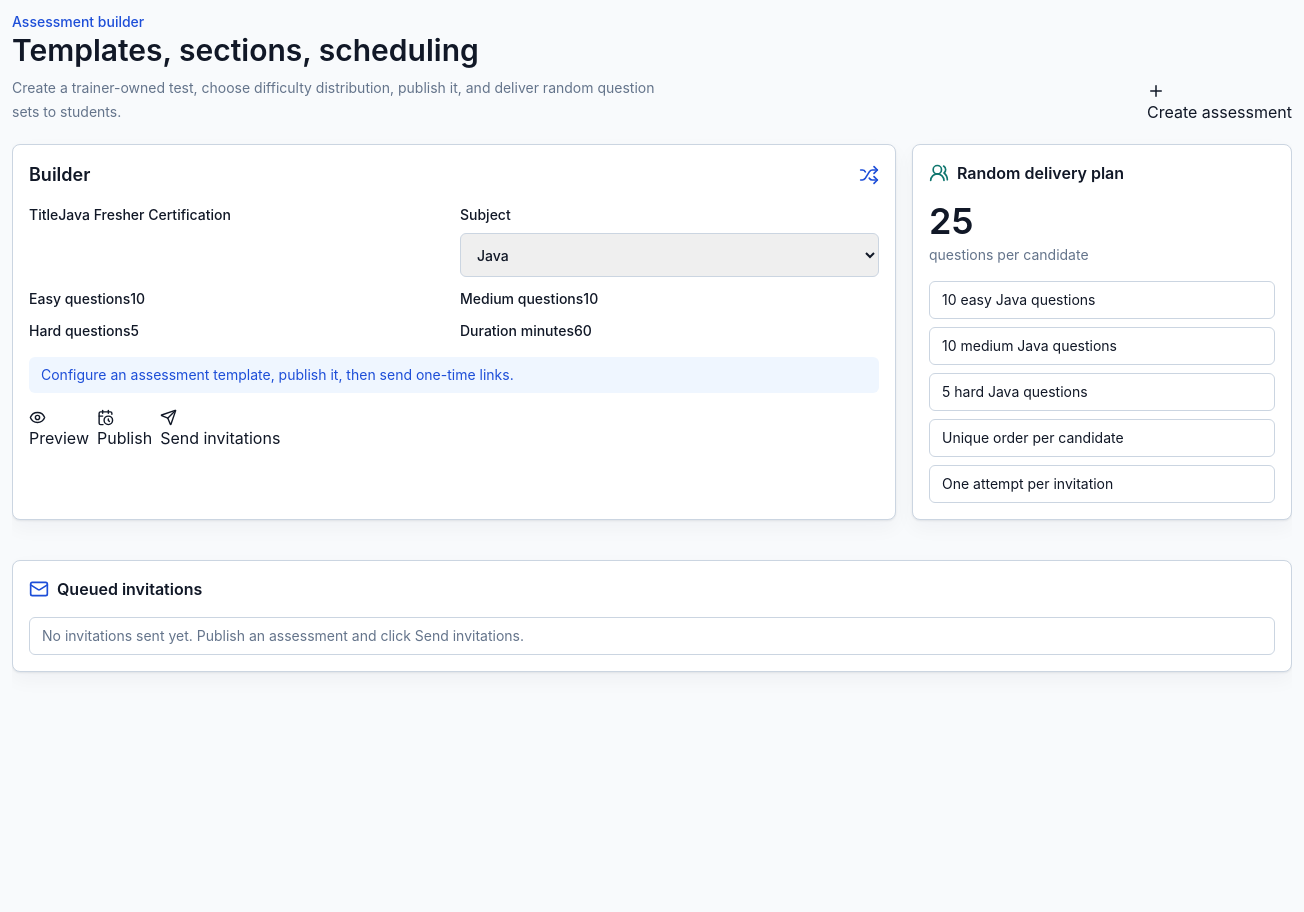
Test case: AssessmentWorkbench publish flow › surfaces the backend's real error message on a failed publish, not a generic one
Click the button "Publish": point(125, 430) [97, 409, 152, 450]
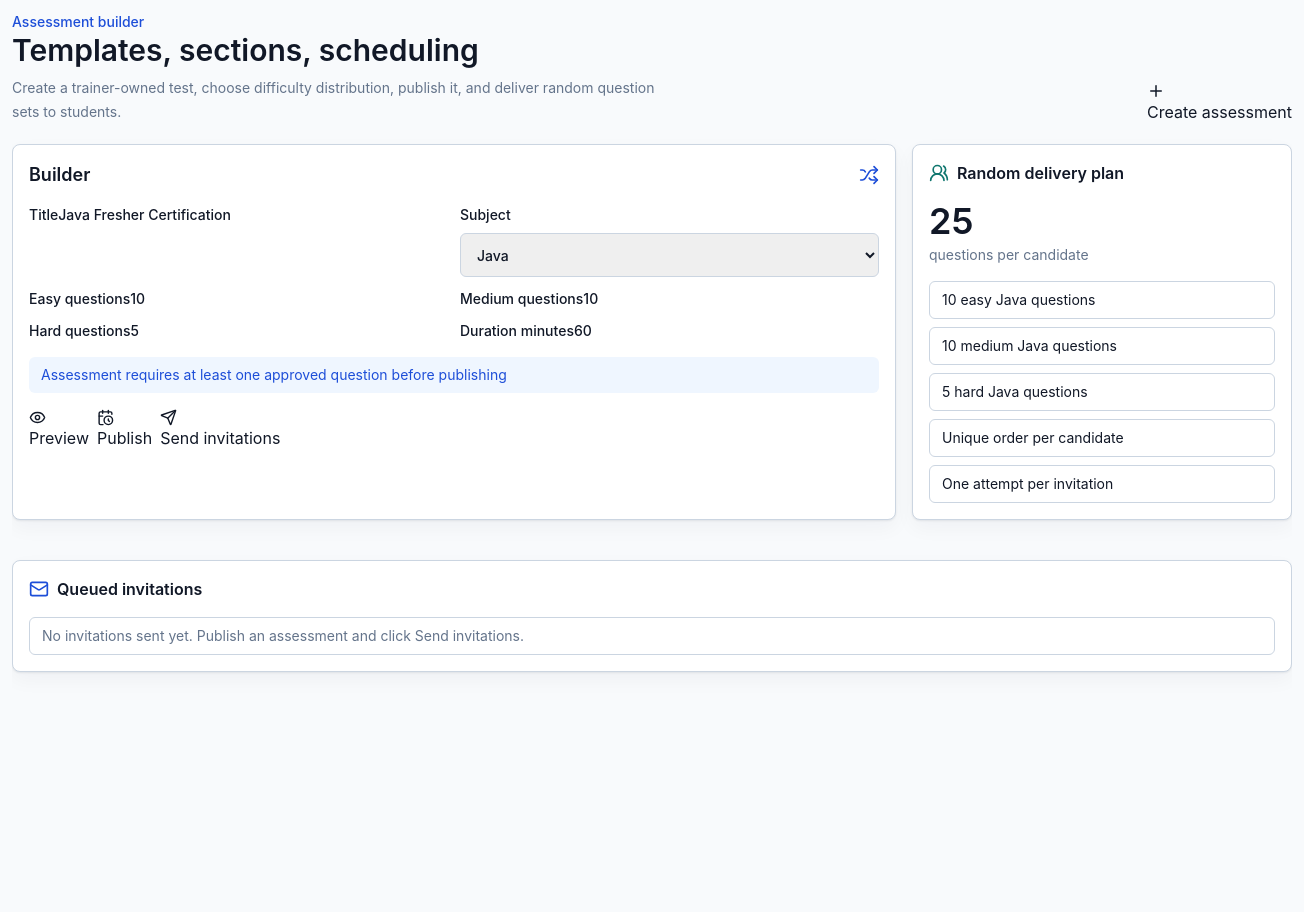
Expected: the text "Assessment requires at least one approved question before publishing" is shown, [29, 357, 879, 393]
